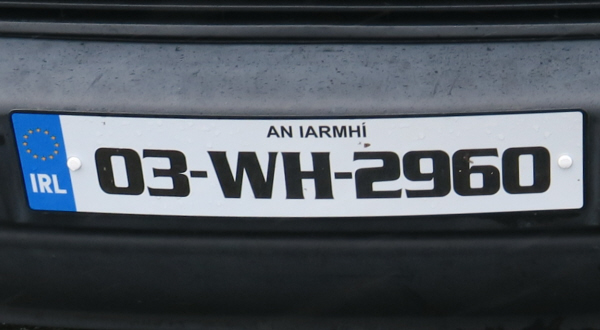license_plate: (10, 109, 584, 216)
